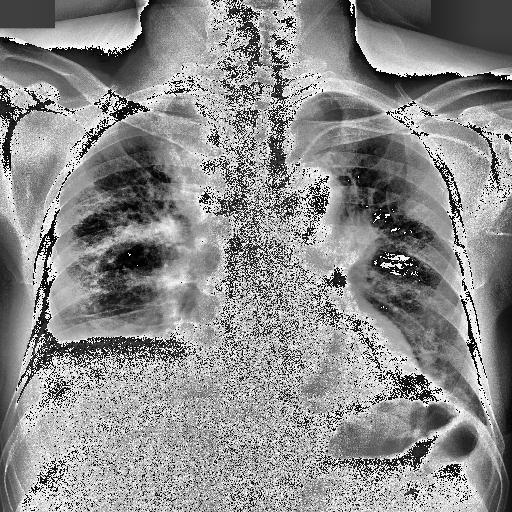0- Aortic enlargement: (270, 166, 346, 248), (258, 161, 341, 234), (288, 162, 344, 234)
10- Pleural effusion: (24, 294, 190, 444), (30, 296, 206, 429), (30, 328, 188, 399)
3- Cardiomegaly: (170, 316, 417, 386)
6- Infiltration: (74, 160, 196, 290)
7- Lung Opacity: (63, 154, 183, 254), (56, 174, 180, 264), (58, 330, 184, 352)
9- Other lesion: (328, 214, 382, 275), (329, 224, 379, 266)
